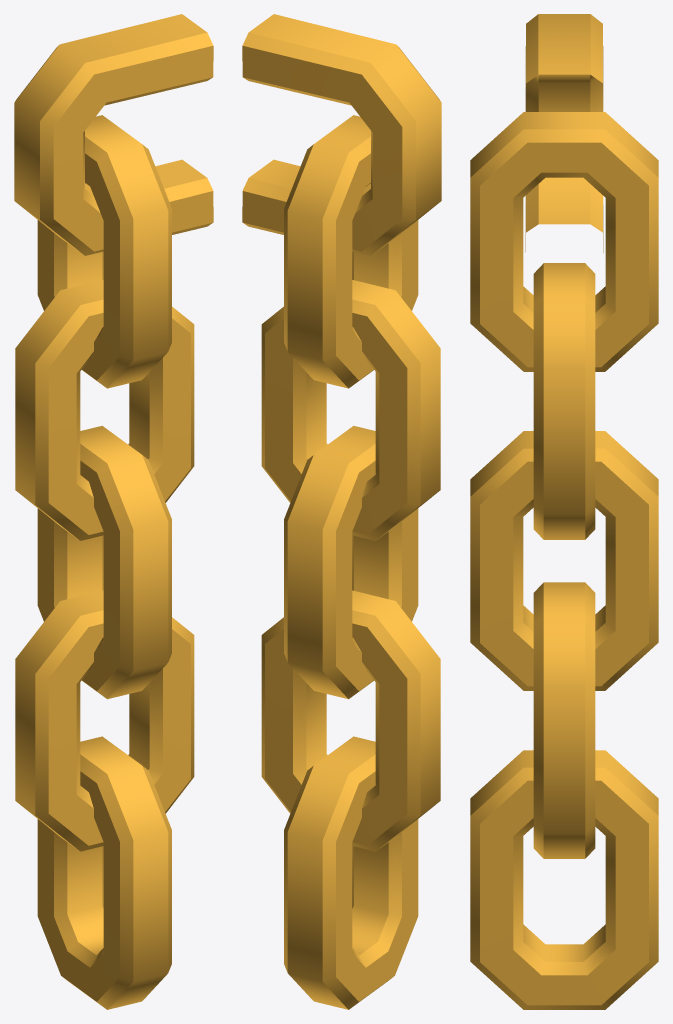
File: Chain_2_2.glb
3 views of the same model, side by side, from view 1: azimuth 30°, elevation 25°; view 2: azimuth 150°, elevation 25°; view 3: azimuth 270°, elevation 25° (orthographic). The views are drawn at different scales.
Visible parts, largest first — view 1: Chain_2_2; view 2: Chain_2_2; view 3: Chain_2_2.
Part boxes in pixels (x1,y1,x2,y2): Chain_2_2: [14, 14, 213, 1009]; Chain_2_2: [242, 14, 441, 1009]; Chain_2_2: [470, 14, 658, 1009].
Size of the model in its own units: 0.1149 by 0.6127 by 0.1077.
Materials: 1 (1 with a texture image).
